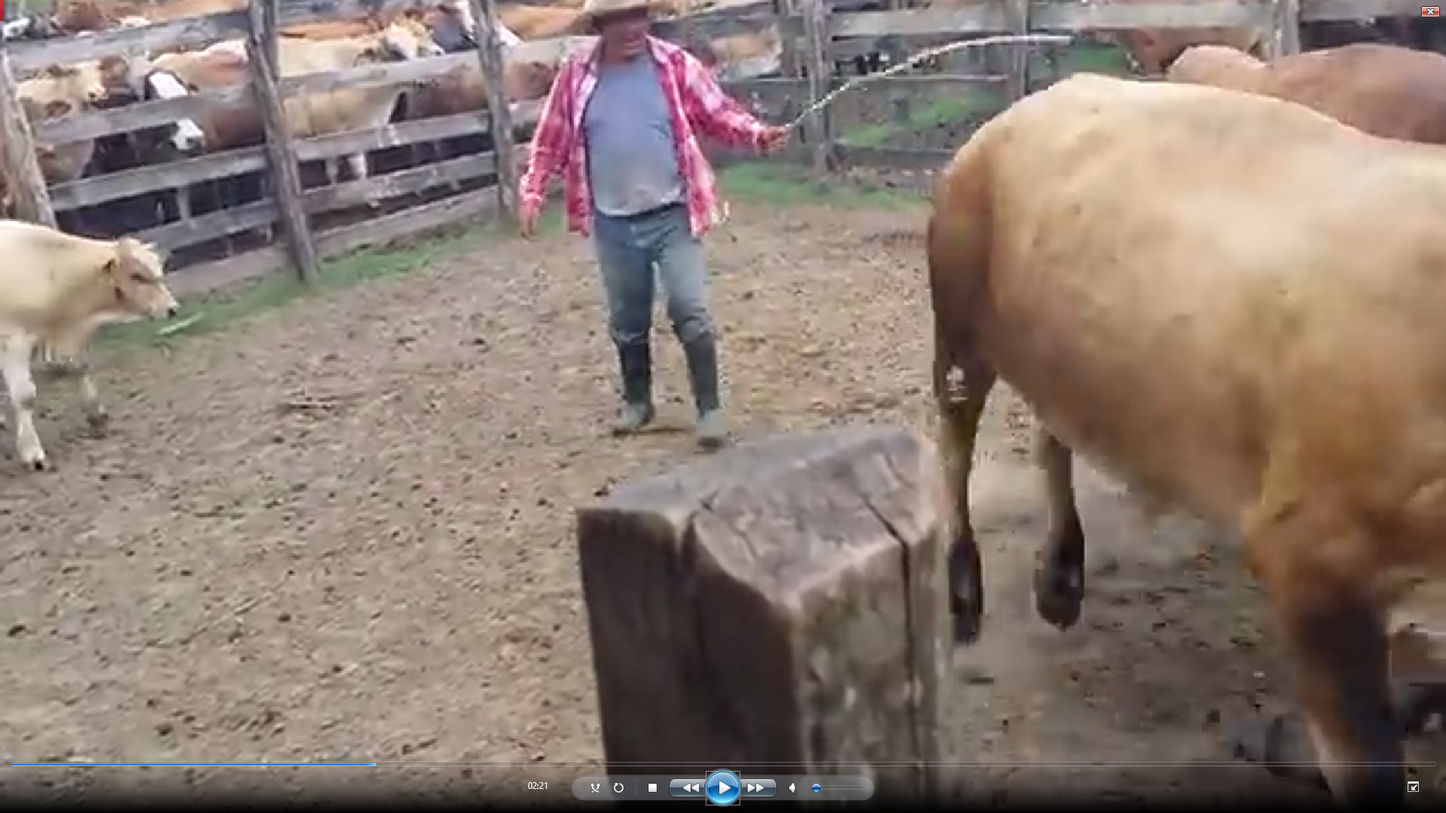bovino: (924, 71, 1446, 750), (0, 209, 170, 464)
